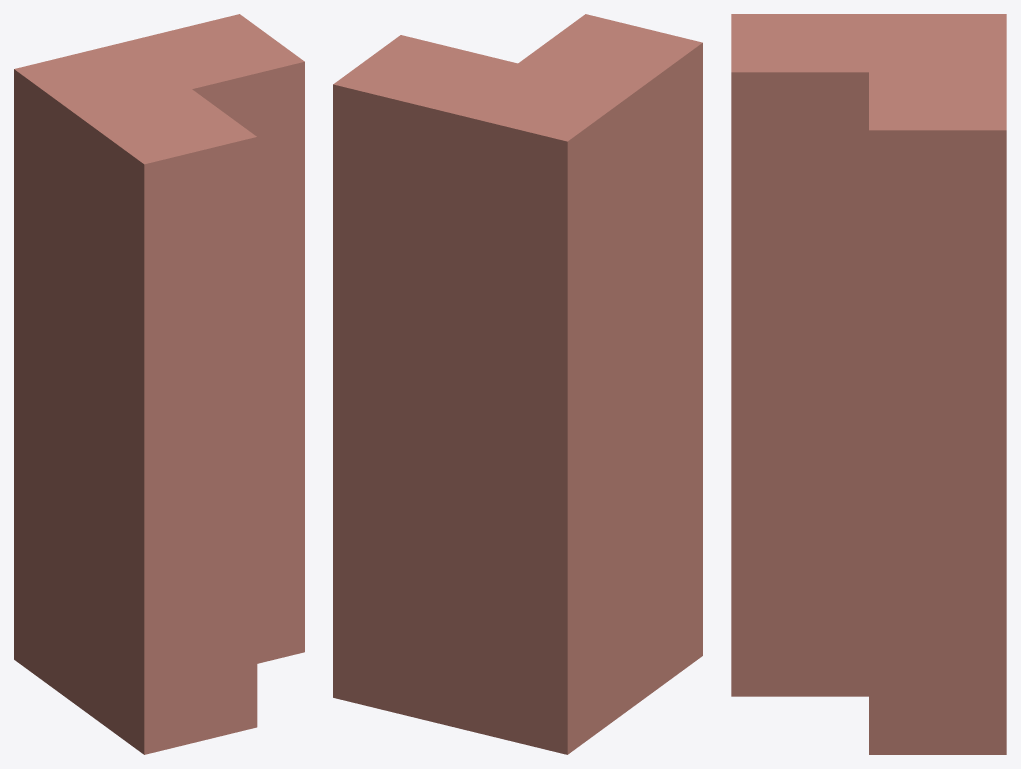
The model's file is BasicWall1x5CornerHard.fbx.
The picture shows the model from 3 angles, left to right: view 1: azimuth 30°, elevation 25°; view 2: azimuth 150°, elevation 25°; view 3: azimuth 270°, elevation 25°; orthographic projection. The views are drawn at different scales.
Parts seen in each view (by area): view 1: BasicWall1x5CornerHard.002; view 2: BasicWall1x5CornerHard.002; view 3: BasicWall1x5CornerHard.002.
Part boxes in pixels (left/top/right/bottom): BasicWall1x5CornerHard.002: left=14, top=14, right=304, bottom=754; BasicWall1x5CornerHard.002: left=333, top=14, right=702, bottom=754; BasicWall1x5CornerHard.002: left=731, top=14, right=1006, bottom=754.
Bounding box in the file's own units: 200 × 500 × 200.
